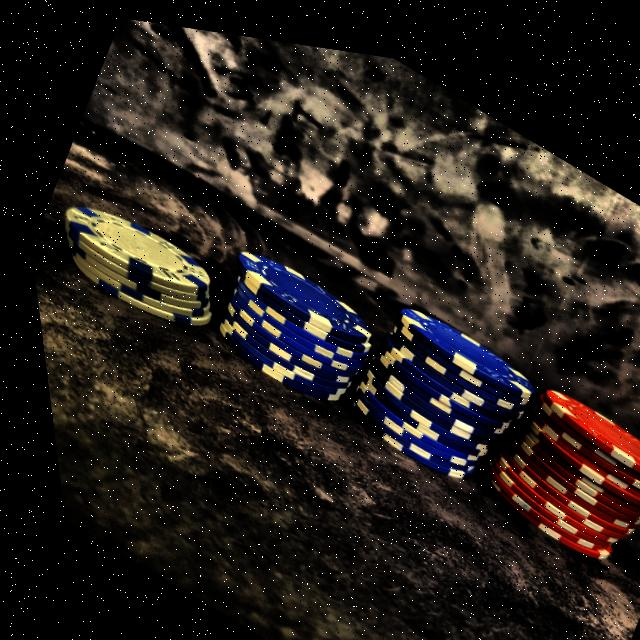Chip: (316, 259, 547, 511), (455, 330, 640, 582), (30, 161, 247, 357), (189, 224, 375, 410)
